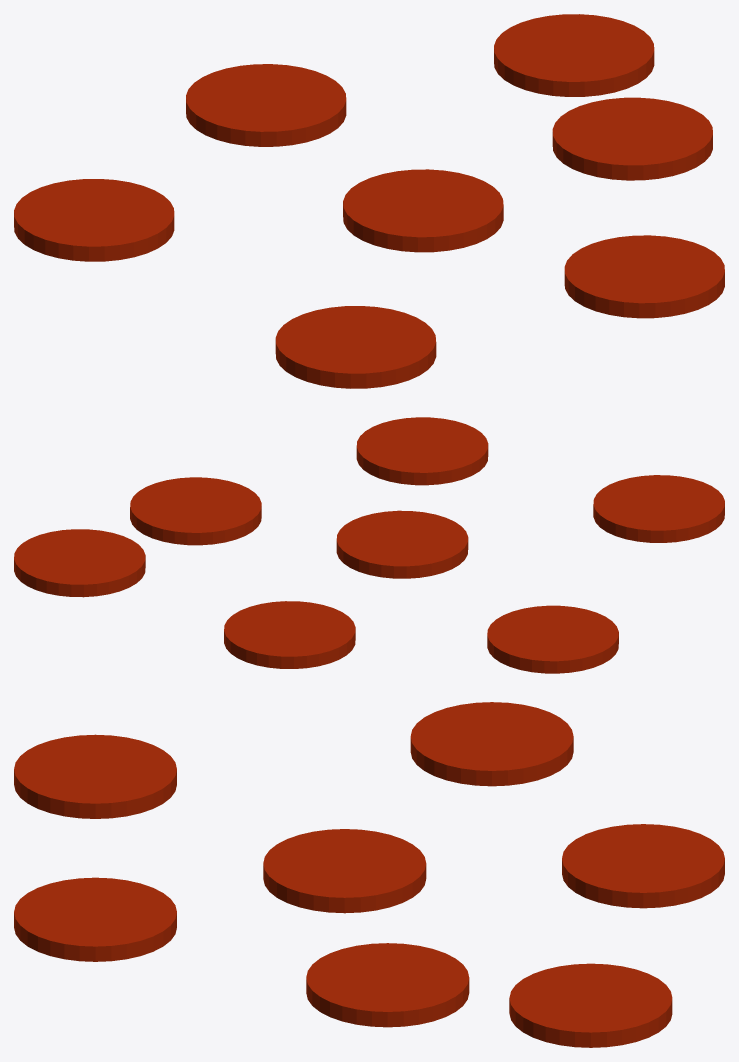
File: worstSliceMulti.dae
3 views of the same model, one above another, from view 1: azimuth 30°, elevation 25°; view 2: azimuth 150°, elevation 25°; view 3: azimuth 270°, elevation 25° (orthographic). The views are drawn at different scales.
Parts seen in each view (by area): view 1: Cylinder; view 2: Cylinder; view 3: Cylinder.
Part boxes in pixels (x1,y1,x2,y2): Cylinder: [14, 14, 724, 388]; Cylinder: [14, 417, 724, 673]; Cylinder: [14, 702, 724, 1047].
Bounding box in the file's own units: 3.65 × 3.32 × 0.0789.
